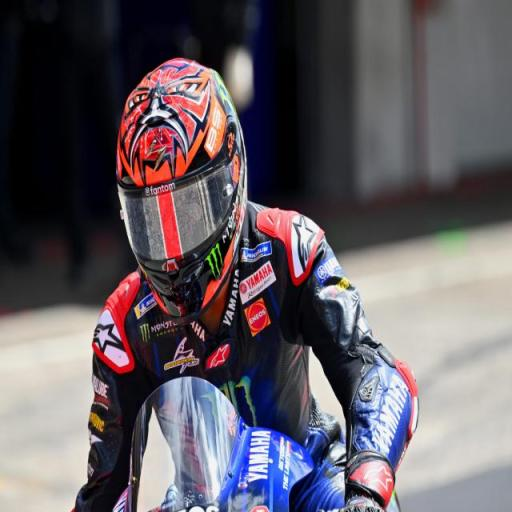Helmet: (117, 59, 246, 323)
